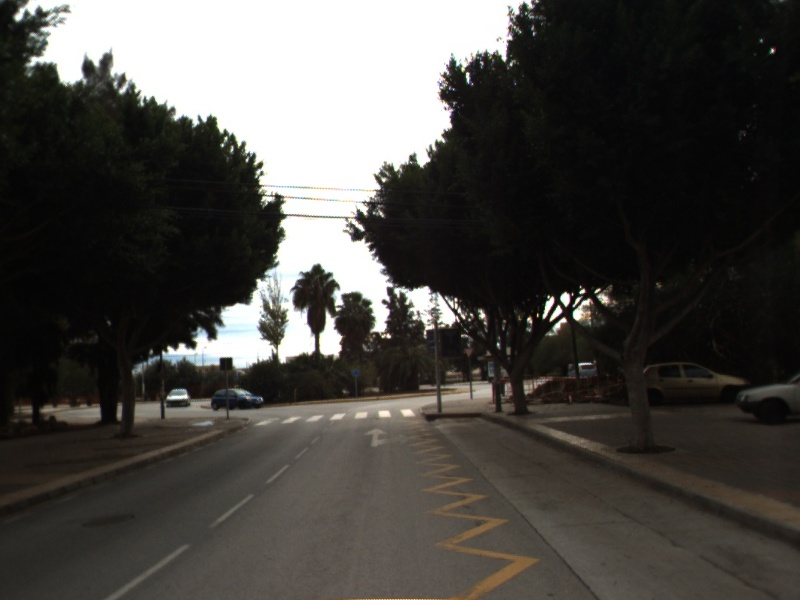STRAIGHT_RIGHT: (362, 426, 412, 449)
